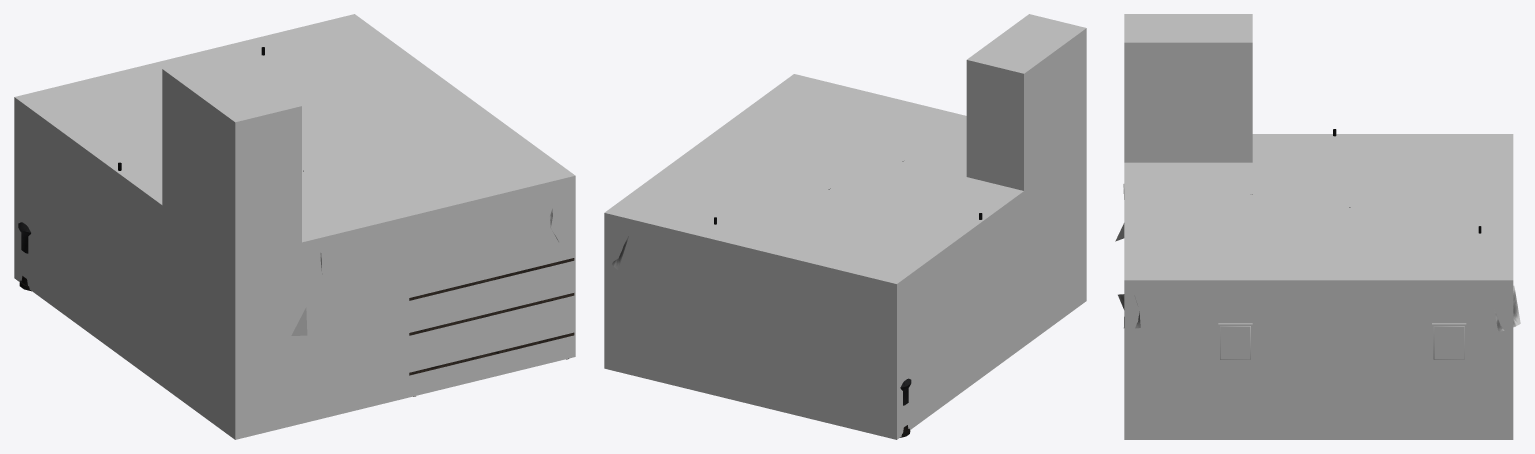
Rendered from basement.FBX.
3 renders of one model, left to right at view 1: azimuth 30°, elevation 25°; view 2: azimuth 150°, elevation 25°; view 3: azimuth 270°, elevation 25°, orthographic. The views are drawn at different scales.
Visible parts, largest first — view 1: basement, shelf_001; view 2: basement; view 3: basement.
Boxes of the visible parts, bbox=[...] form: basement: bbox=[14, 14, 575, 439]; shelf_001: bbox=[409, 258, 574, 396]; basement: bbox=[604, 14, 1086, 439]; basement: bbox=[1124, 14, 1513, 439].
Size of the model in its own units: 34.65 by 30.01 by 39.28.
